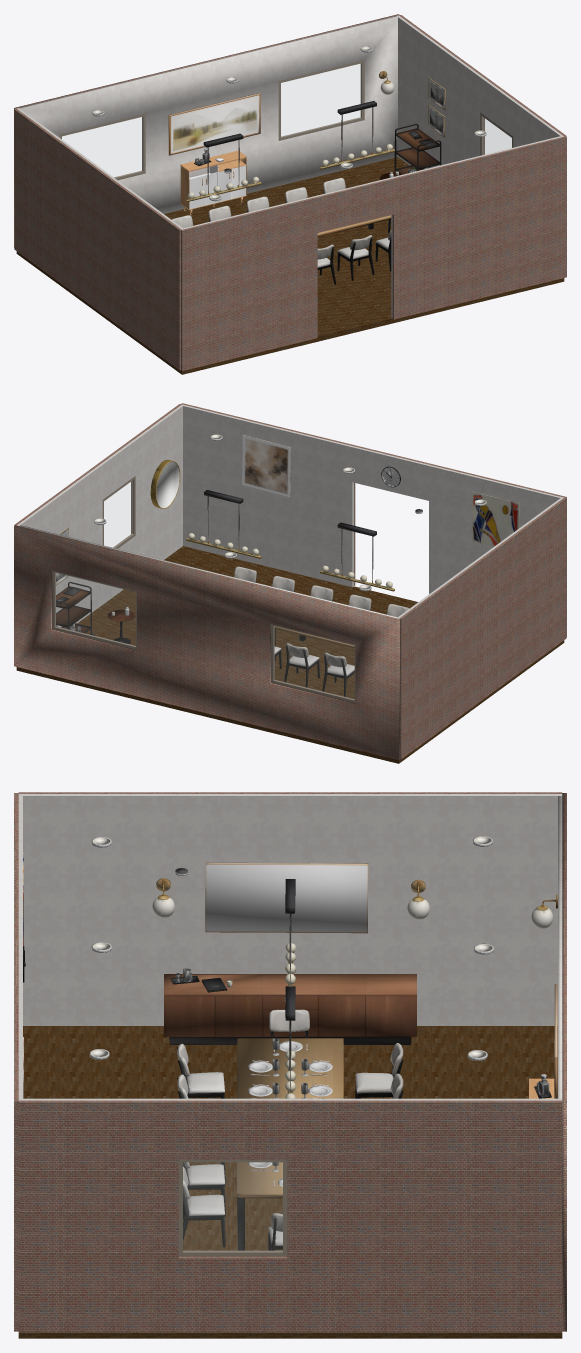
File: scene_named.glb
3 renders of one model, top to bottom at view 1: azimuth 30°, elevation 25°; view 2: azimuth 150°, elevation 25°; view 3: azimuth 270°, elevation 25°, orthographic. The views are drawn at different scales.
Parts seen in each view (by area): view 1: south_wall_exterior_dining_room/south_wall_exterior_dining_r, north_wall_dining_room/north_wall_dining_room/geometry_0, west_wall_exterior_dining_room/west_wall_exterior_dining_roo, floor_dining_room, east_wall_dining_room/east_wall_dining_room/geometry_0, window_2_dining_room/window_2_dining_room/glass, art_print_0, window_1_dining_room/window_1_dining_room/glass, bar_cart_0, window_2_dining_room/window_2_dining_room/frame, south_wall_dining_room/south_wall_dining_room/geometry_0, chandelier_0 (+8 smaller); view 2: north_wall_exterior_dining_room/north_wall_exterior_dining_r, south_wall_dining_room/south_wall_dining_room/geometry_0, west_wall_exterior_dining_room/west_wall_exterior_dining_roo, east_wall_dining_room/east_wall_dining_room/geometry_0, floor_dining_room, window_1_dining_room/window_1_dining_room/glass, window_2_dining_room/window_2_dining_room/glass, canvas_0, painting_0, window_3_dining_room/window_3_dining_room/glass, mirror_1, bar_cart_0 (+11 smaller); view 3: east_wall_exterior_dining_room/east_wall_exterior_dining_roo, west_wall_dining_room/west_wall_dining_room/geometry_0, floor_dining_room, credenza_0, mirror_0, window_3_dining_room/window_3_dining_room/glass, dining_table_0, north_wall_exterior_dining_room/north_wall_exterior_dining_r, south_wall_exterior_dining_room/south_wall_exterior_dining_r, window_3_dining_room/window_3_dining_room/frame, east_wall_dining_room/east_wall_dining_room/geometry_0, north_wall_dining_room/north_wall_dining_room/geometry_0 (+9 smaller).
Part boxes in pixels (<box>): south_wall_exterior_dining_room/south_wall_exterior_dining_r: <box>181,136,566,370</box>; north_wall_dining_room/north_wall_dining_room/geometry_0: <box>19,16,397,213</box>; west_wall_exterior_dining_room/west_wall_exterior_dining_roo: <box>14,108,181,370</box>; floor_dining_room: <box>16,157,564,374</box>; east_wall_dining_room/east_wall_dining_room/geometry_0: <box>397,15,563,168</box>; window_2_dining_room/window_2_dining_room/glass: <box>281,64,361,136</box>; art_print_0: <box>168,93,260,155</box>; window_1_dining_room/window_1_dining_room/glass: <box>62,117,142,177</box>; bar_cart_0: <box>394,123,441,174</box>; window_2_dining_room/window_2_dining_room/frame: <box>278,60,364,140</box>; south_wall_dining_room/south_wall_dining_room/geometry_0: <box>183,136,561,317</box>; chandelier_0: <box>185,133,261,201</box>; north_wall_exterior_dining_room/north_wall_exterior_dining_r: <box>14,525,399,759</box>; south_wall_dining_room/south_wall_dining_room/geometry_0: <box>183,405,561,593</box>; west_wall_exterior_dining_room/west_wall_exterior_dining_roo: <box>399,497,566,759</box>; east_wall_dining_room/east_wall_dining_room/geometry_0: <box>17,404,183,627</box>; floor_dining_room: <box>16,546,564,763</box>; window_1_dining_room/window_1_dining_room/glass: <box>274,626,354,699</box>; window_2_dining_room/window_2_dining_room/glass: <box>55,573,135,645</box>; canvas_0: <box>242,435,290,497</box>; painting_0: <box>472,491,519,546</box>; window_3_dining_room/window_3_dining_room/glass: <box>104,481,132,547</box>; mirror_1: <box>150,460,180,508</box>; bar_cart_0: <box>56,582,94,635</box>; east_wall_exterior_dining_room/east_wall_exterior_dining_roo: <box>18,1100,562,1332</box>; west_wall_dining_room/west_wall_dining_room/geometry_0: <box>18,794,562,1025</box>; floor_dining_room: <box>18,1026,562,1338</box>; credenza_0: <box>164,974,416,1044</box>; mirror_0: <box>205,862,368,933</box>; window_3_dining_room/window_3_dining_room/glass: <box>183,1162,282,1250</box>; dining_table_0: <box>237,1038,343,1250</box>; north_wall_exterior_dining_room/north_wall_exterior_dining_r: <box>562,793,566,1331</box>; south_wall_exterior_dining_room/south_wall_exterior_dining_r: <box>14,793,18,1331</box>; window_3_dining_room/window_3_dining_room/frame: <box>178,1160,287,1256</box>; east_wall_dining_room/east_wall_dining_room/geometry_0: <box>18,1098,562,1100</box>; north_wall_dining_room/north_wall_dining_room/geometry_0: <box>558,796,562,1098</box>.
Size of the model in its own units: 8.1 by 2.9 by 6.1.
Materials: 43 (38 with a texture image).
